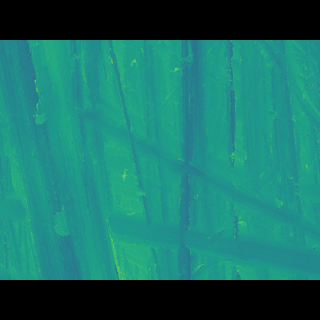Loch: (75, 104, 320, 248), (0, 69, 120, 250)
